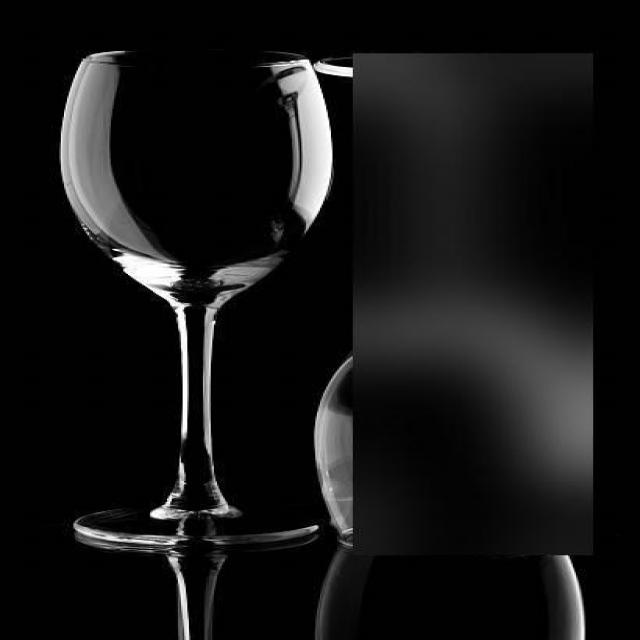glass-wine: (56, 44, 337, 553)
